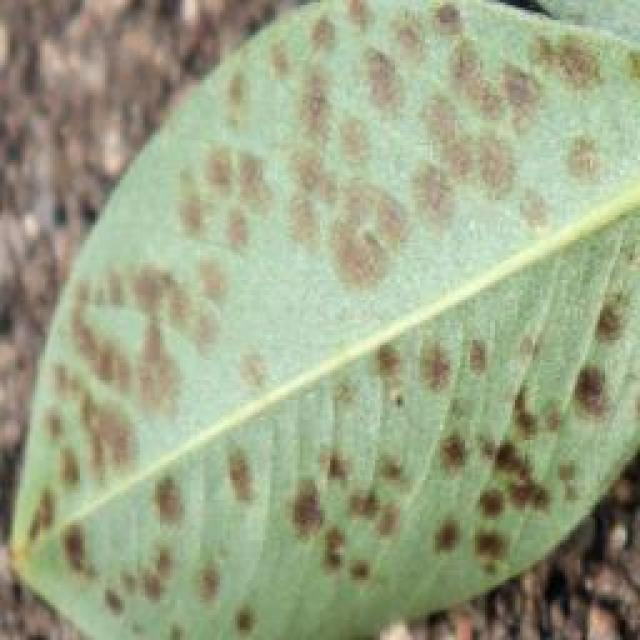Whitefly: (0, 0, 640, 615)
